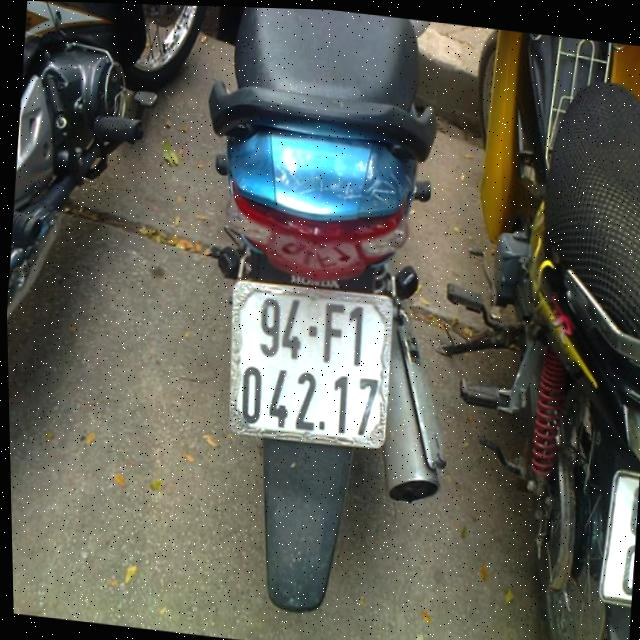motorcycle: (163, 5, 490, 640), (425, 26, 640, 640), (0, 0, 218, 343)
plate: (211, 265, 403, 461)
